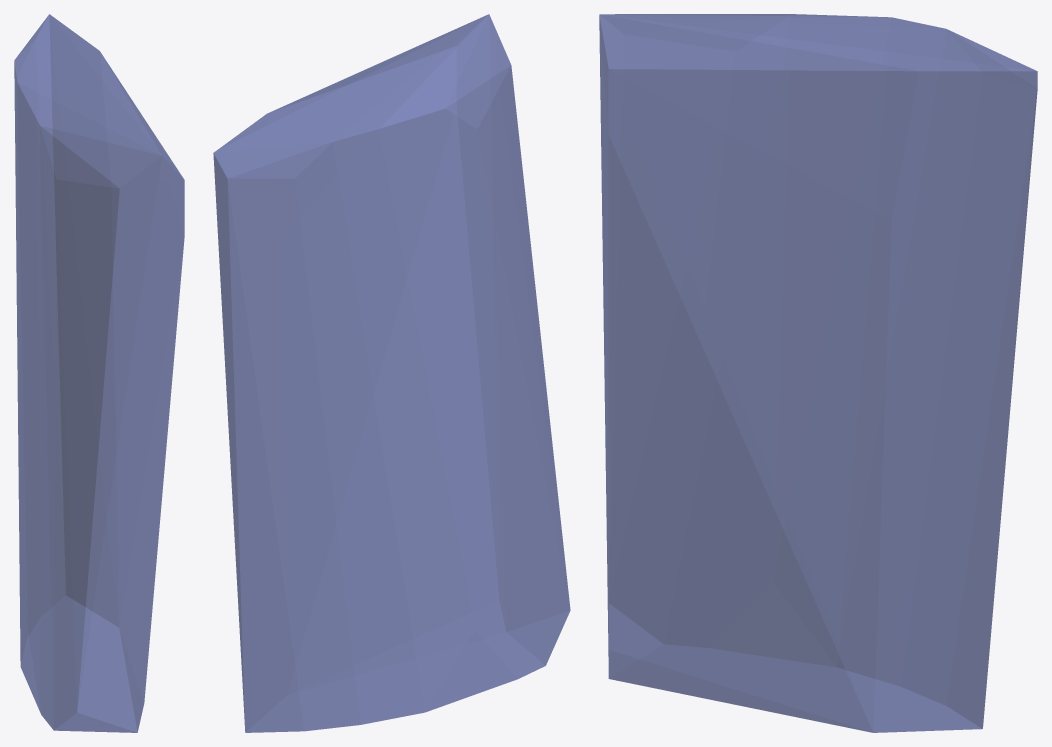
The picture shows the model from 3 angles, left to right: view 1: azimuth 30°, elevation 25°; view 2: azimuth 150°, elevation 25°; view 3: azimuth 270°, elevation 25°; orthographic projection. The views are drawn at different scales.
Visible parts, largest first — view 1: Shape_IndexedFaceSet.025_Shape_IndexedFaceSet.1990; view 2: Shape_IndexedFaceSet.025_Shape_IndexedFaceSet.1990; view 3: Shape_IndexedFaceSet.025_Shape_IndexedFaceSet.1990.
Part boxes in pixels (box(x1,y1,x2,y2)): Shape_IndexedFaceSet.025_Shape_IndexedFaceSet.1990: box(14, 14, 184, 732); Shape_IndexedFaceSet.025_Shape_IndexedFaceSet.1990: box(213, 14, 570, 732); Shape_IndexedFaceSet.025_Shape_IndexedFaceSet.1990: box(599, 14, 1037, 732).
Size of the model in its own units: 0.1223 by 0.435 by 0.2555.
